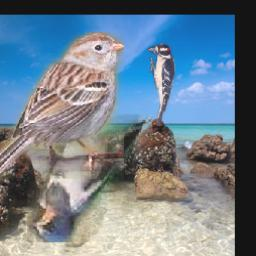Sparrow: (0, 32, 125, 179)
Swallow: (27, 115, 152, 243)
Woodpecker: (147, 42, 175, 127)
